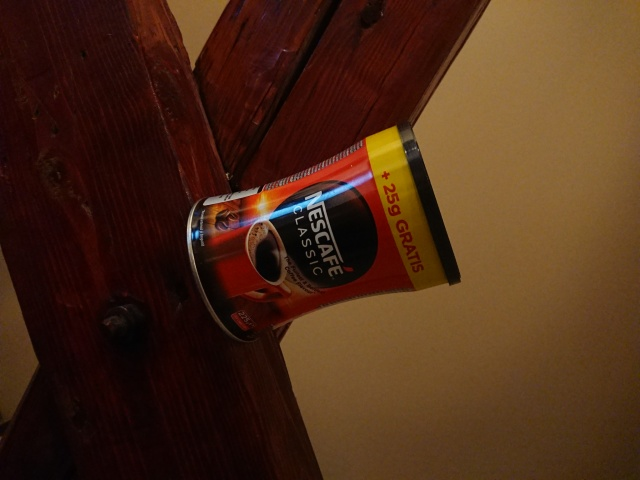Nescafe Classic 225g: (182, 117, 464, 347)
